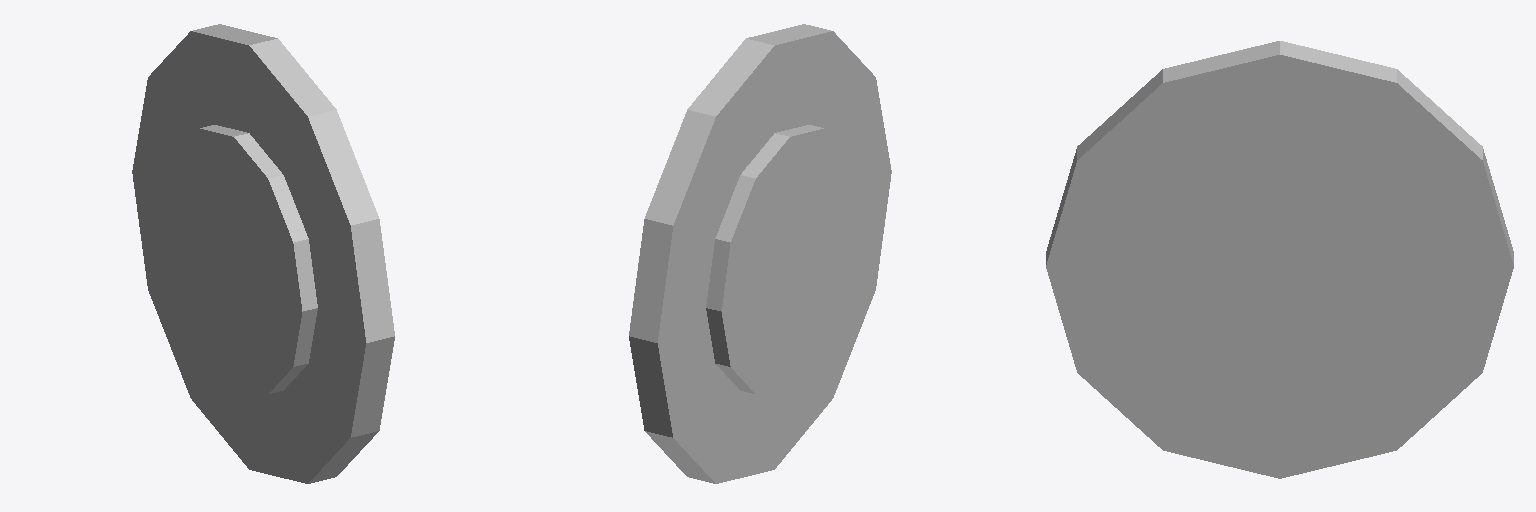
The model's file is Panzer VI Tank Wheel Front.obj.
The picture shows the model from 3 angles: view 1: azimuth 30°, elevation 25°; view 2: azimuth 150°, elevation 25°; view 3: azimuth 270°, elevation 25°; orthographic projection.
Visible parts, largest first — view 1: Cylinder.012_Cylinder.033; view 2: Cylinder.012_Cylinder.033; view 3: Cylinder.012_Cylinder.033.
Boxes of the visible parts, <box> form: Cylinder.012_Cylinder.033: <box>132,24,394,483</box>; Cylinder.012_Cylinder.033: <box>629,24,891,483</box>; Cylinder.012_Cylinder.033: <box>1046,41,1513,478</box>.
Size of the model in its own units: 0.0691 by 0.632 by 0.632.